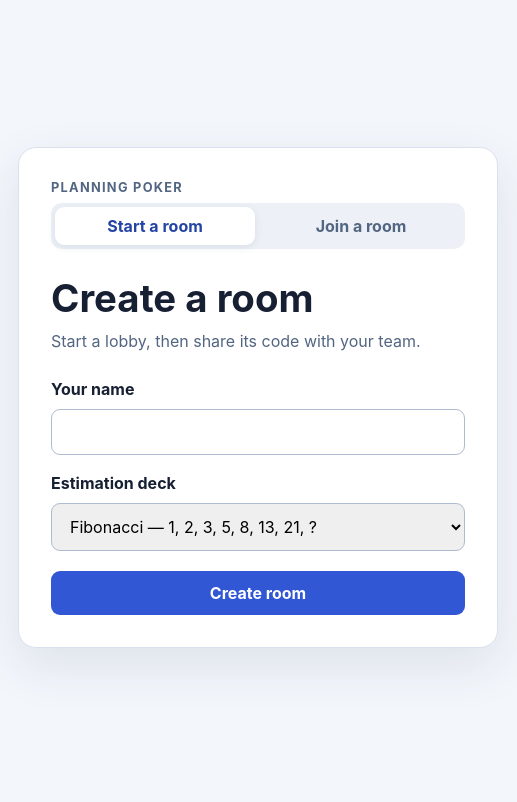
it: lobby synchronization › ignores a poll response that started before a newer room action
The image size is (517, 802).
Type "Alex" into the field labelled "Your name" at [258, 432], box [51,408,465,454]
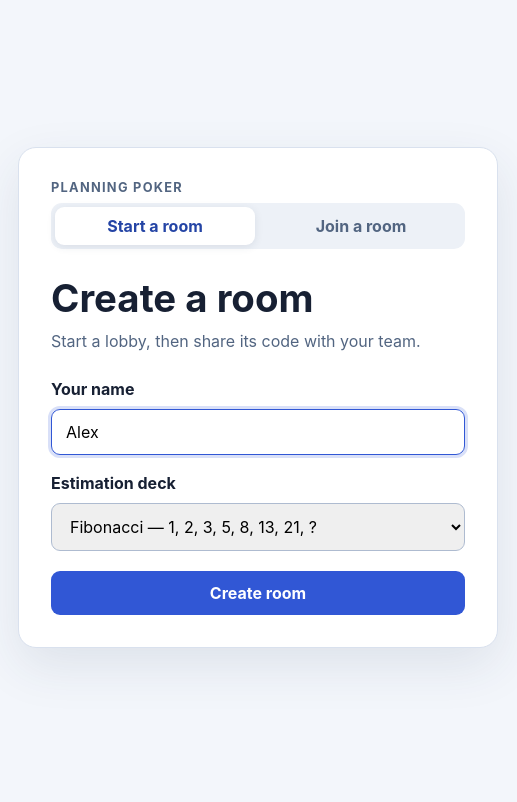
Click the button "Create room" at [258, 592], box [51,570,465,614]
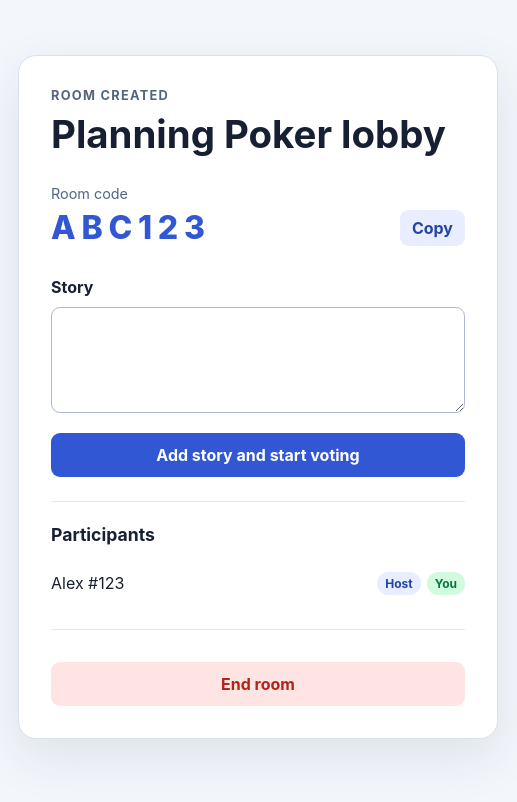
Type "Estimate login flow" into the text box labelled "Story" at [258, 360], box [51,307,465,413]
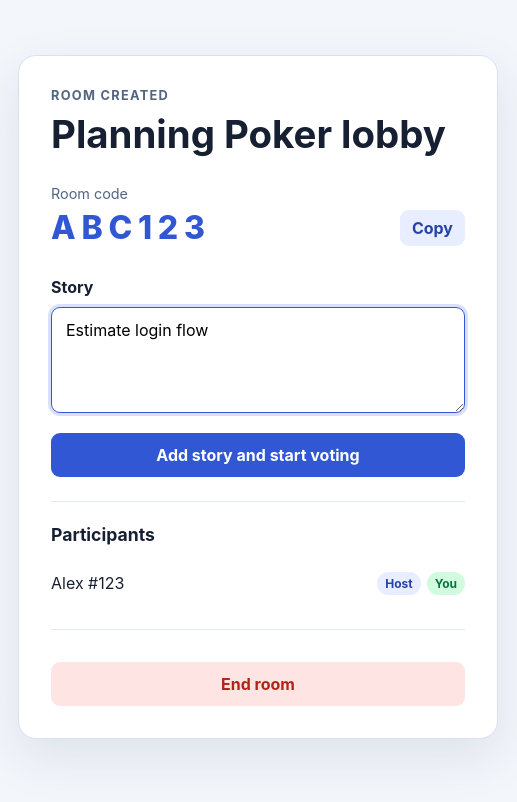
Click the button "Add story and start voting" at [258, 455], box [51,433,465,477]
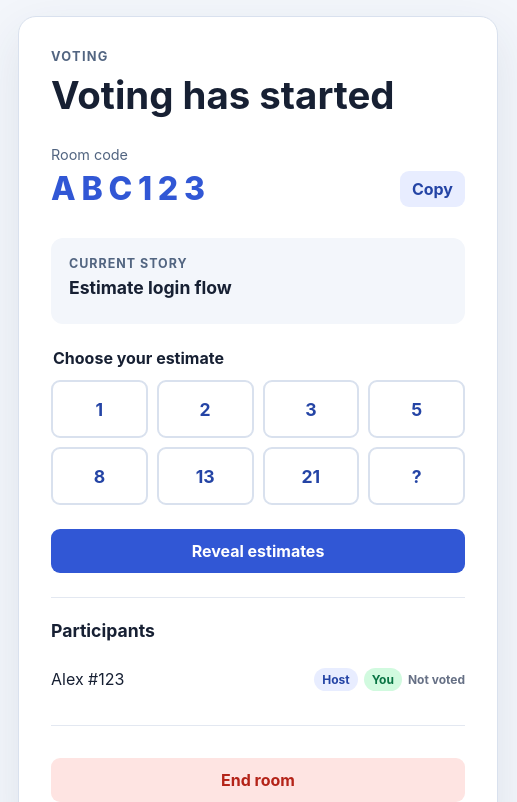
Result: the heading "Voting has started" is shown at [51,72,394,118]
